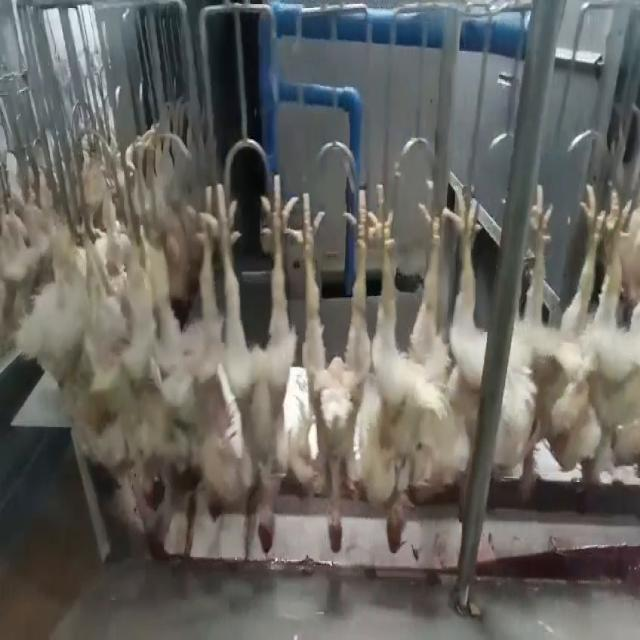chicken: (507, 187, 602, 513), (223, 178, 303, 560), (368, 186, 449, 560), (305, 172, 382, 556), (148, 180, 218, 549), (572, 178, 635, 522), (448, 179, 495, 435)
